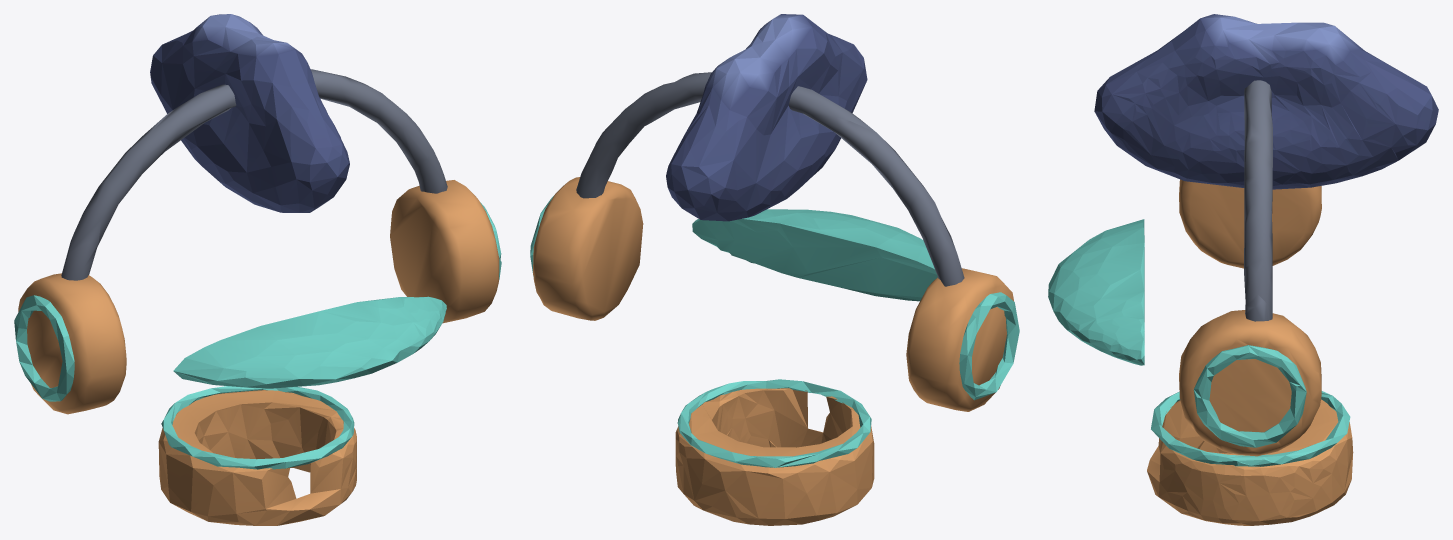
The model's file is tenue_neon.glb.
The picture shows the model from 3 angles, left to right: view 1: azimuth 30°, elevation 25°; view 2: azimuth 150°, elevation 25°; view 3: azimuth 270°, elevation 25°; orthographic projection. The views are drawn at different scales.
Parts seen in each view (by area): view 1: head__coiffe, head__coiffe_hair, torso__torse, head__visage_glow, torso__torse_glow, head__coiffe_glow; view 2: head__coiffe, head__coiffe_hair, torso__torse, head__visage_glow, torso__torse_glow, head__coiffe_glow; view 3: head__coiffe_hair, head__coiffe, torso__torse, head__visage_glow, head__coiffe_glow, torso__torse_glow.
Boxes of the visible parts, x1,y1,x2,y2 form: head__coiffe: [18, 69, 499, 414]; head__coiffe_hair: [150, 14, 349, 212]; torso__torse: [158, 390, 356, 525]; head__visage_glow: [173, 296, 446, 388]; torso__torse_glow: [161, 386, 354, 469]; head__coiffe_glow: [14, 202, 501, 401]; head__coiffe: [533, 72, 1013, 411]; head__coiffe_hair: [666, 14, 867, 221]; torso__torse: [675, 388, 874, 525]; head__visage_glow: [692, 209, 937, 301]; torso__torse_glow: [677, 379, 871, 467]; head__coiffe_glow: [530, 196, 1019, 400]; head__coiffe_hair: [1094, 14, 1438, 189]; head__coiffe: [1179, 80, 1321, 456]; torso__torse: [1147, 399, 1353, 525]; head__visage_glow: [1048, 219, 1144, 365]; head__coiffe_glow: [1193, 345, 1306, 447]; torso__torse_glow: [1151, 391, 1350, 466].
Bounding box in the file's own units: 0.6404 × 0.6392 × 0.4801.
